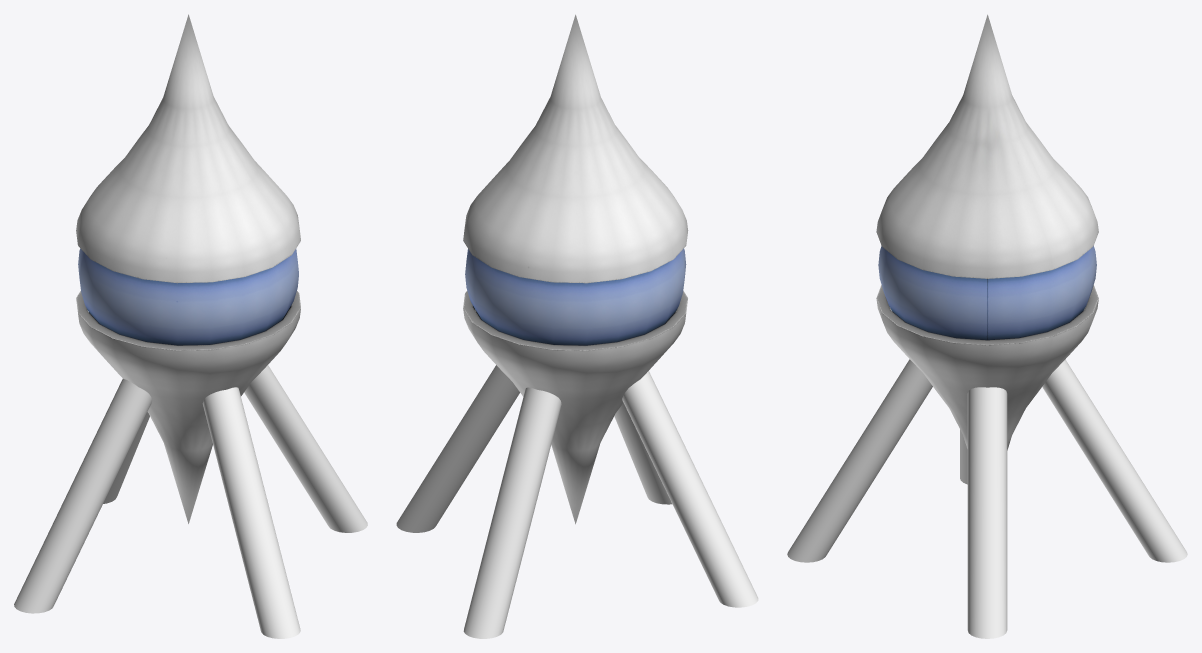
Rendered from Lampe_Sol.fbx.
3 views of the same model, side by side, from view 1: azimuth 30°, elevation 25°; view 2: azimuth 150°, elevation 25°; view 3: azimuth 270°, elevation 25° (orthographic).
Visible parts, largest first — view 1: Lampe_sol; view 2: Lampe_sol; view 3: Lampe_sol.
Part boxes in pixels (x1=…): Lampe_sol: x1=14, y1=14, x2=367, y2=638; Lampe_sol: x1=396, y1=14, x2=758, y2=638; Lampe_sol: x1=787, y1=14, x2=1187, y2=638.
Size of the model in its own units: 8.93 by 13.3 by 8.93.
Materials: 1 (1 with a texture image).
